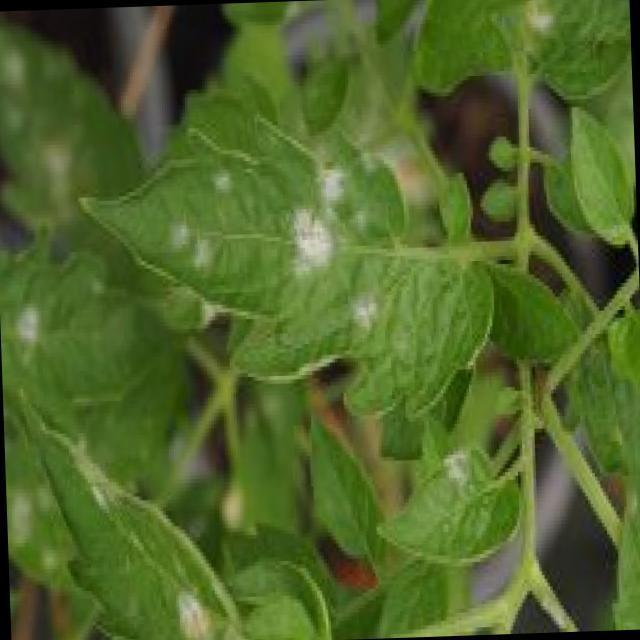Mosaic Virus: (160, 132, 430, 348), (69, 461, 212, 640), (376, 431, 518, 560)
